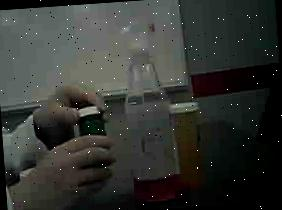Bottle A: (170, 96, 217, 192)
Bottle C: (66, 99, 117, 182)
hazard: (108, 12, 185, 209)
